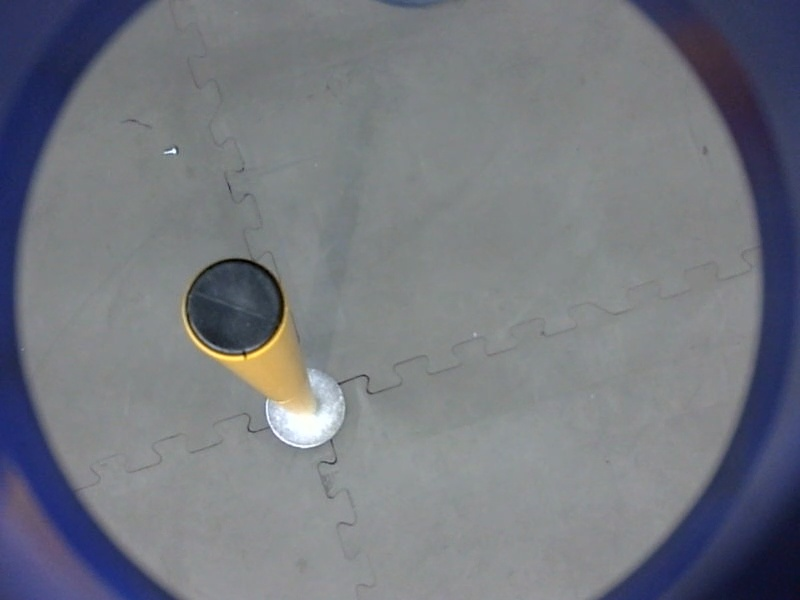tip: (175, 252, 292, 365)
